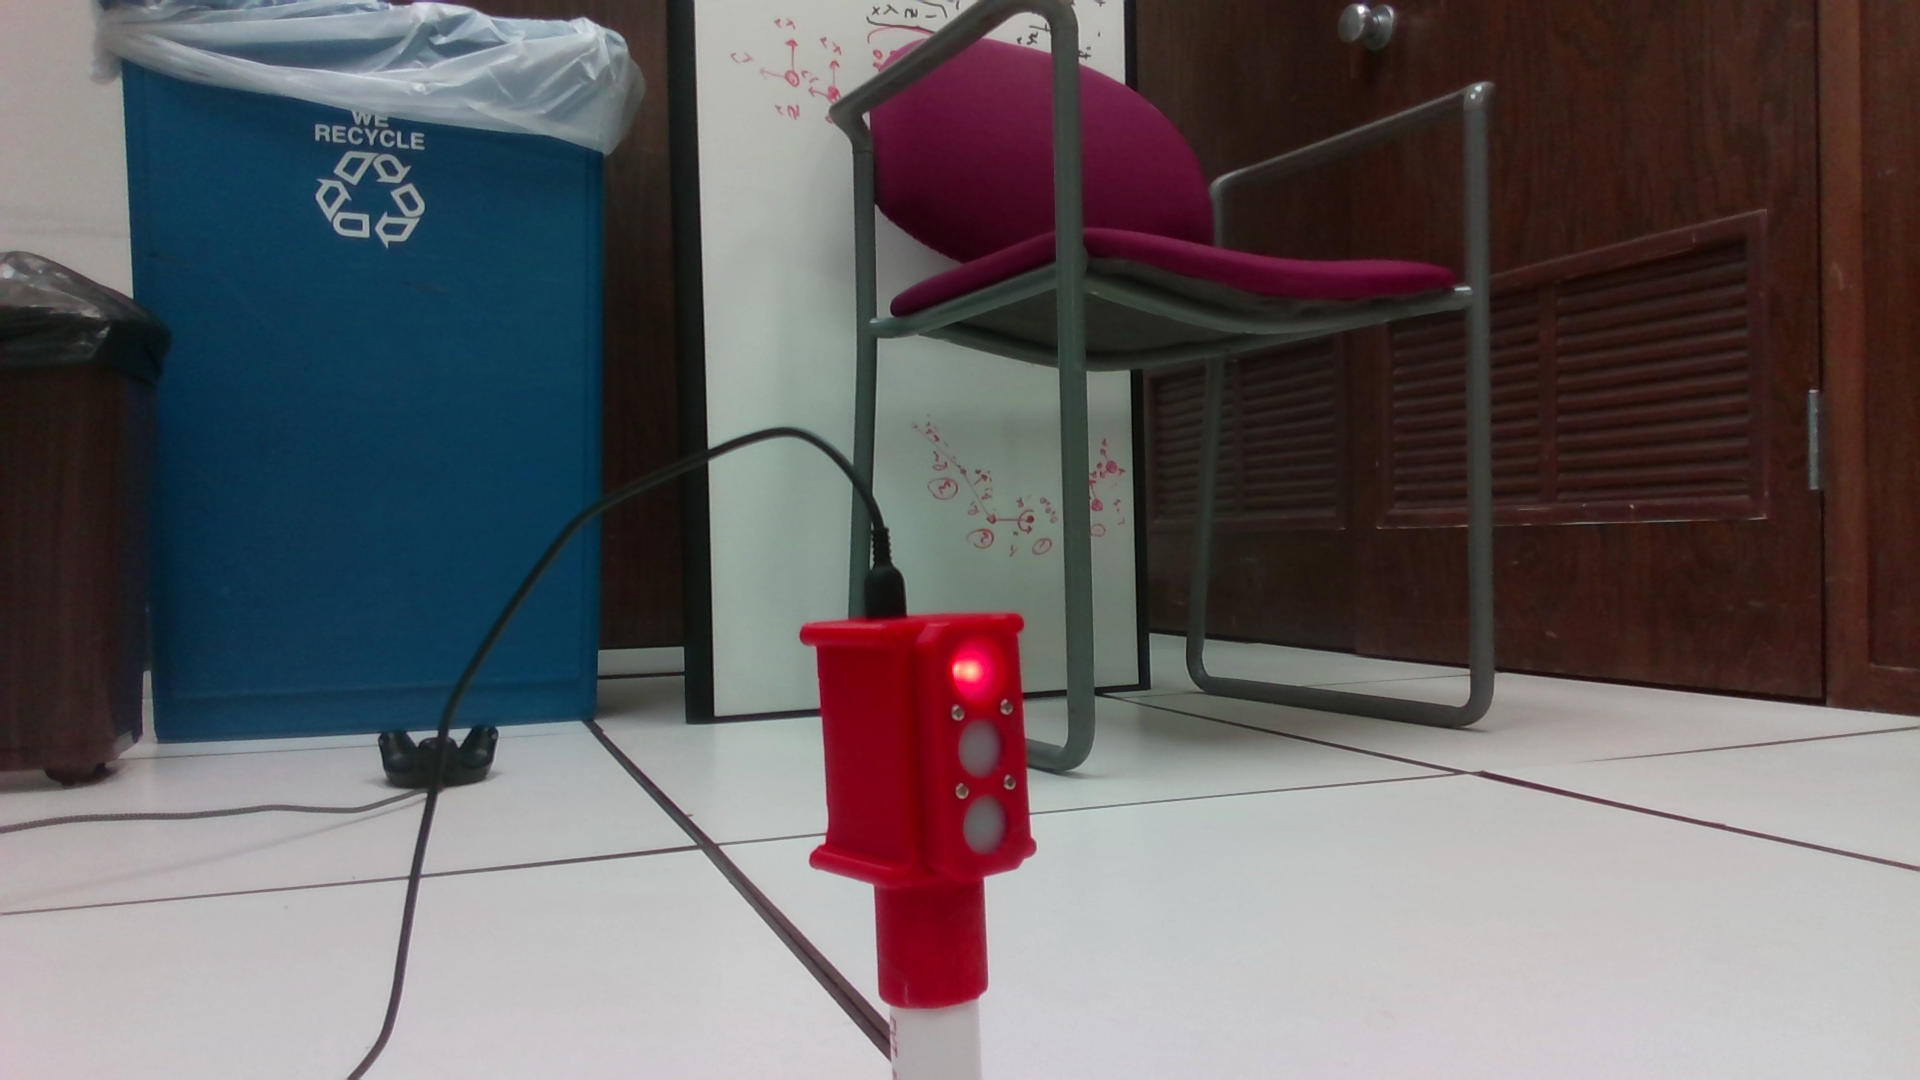stoplight: (799, 615, 1042, 1009)
